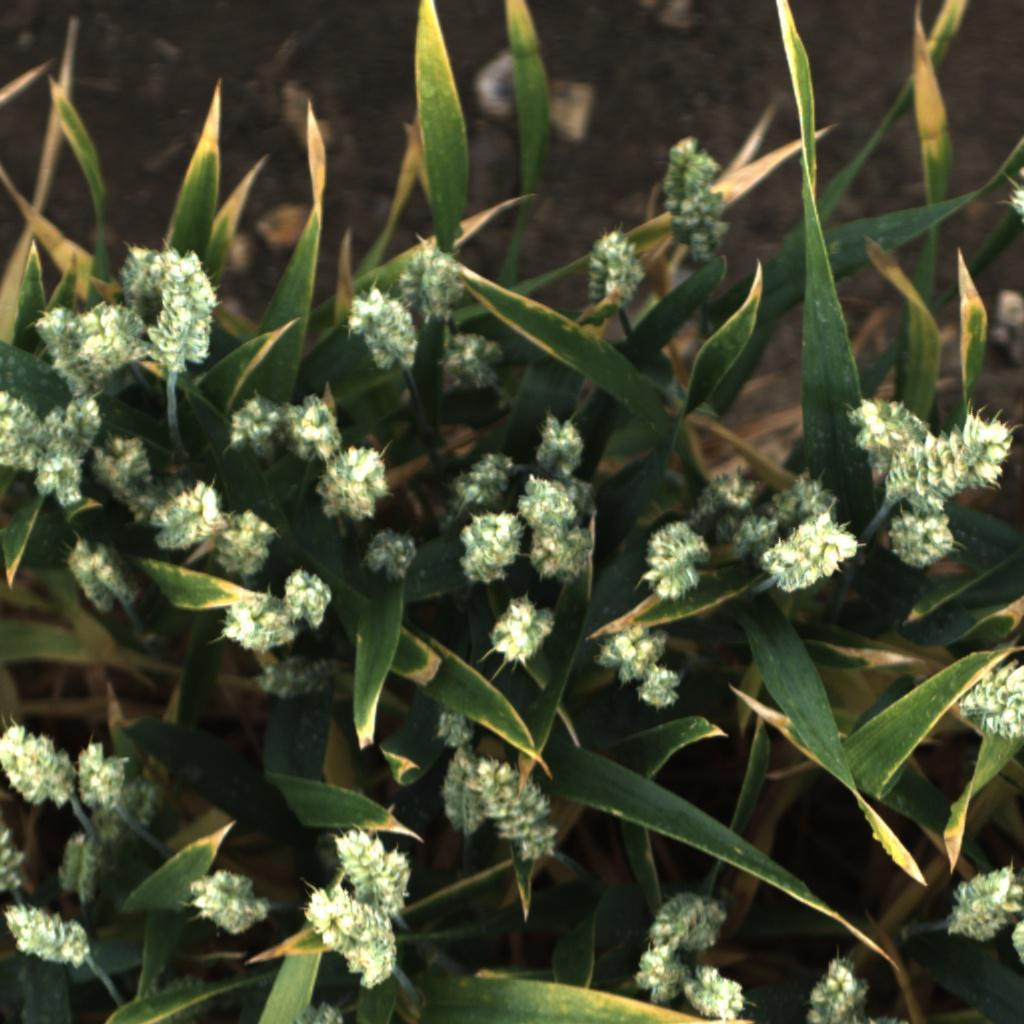0-0: (880, 409, 1014, 514), (299, 882, 400, 994), (655, 133, 733, 266), (146, 251, 227, 372), (473, 754, 565, 860), (759, 508, 863, 596), (843, 394, 941, 486), (382, 230, 469, 326), (33, 303, 116, 401), (329, 819, 414, 911), (0, 715, 74, 811), (87, 432, 162, 526), (63, 537, 144, 620), (344, 289, 421, 376), (73, 297, 154, 379), (182, 866, 271, 939), (76, 774, 162, 849), (940, 865, 1022, 943), (141, 477, 225, 553), (313, 445, 393, 524), (526, 511, 602, 593), (637, 520, 714, 600), (953, 658, 1024, 743), (1, 904, 88, 973), (221, 587, 307, 656), (581, 225, 648, 312), (452, 508, 522, 591), (686, 468, 763, 541), (587, 613, 669, 680), (880, 508, 963, 572), (223, 387, 290, 466), (91, 235, 169, 302), (68, 736, 134, 815), (278, 387, 344, 466), (210, 508, 281, 581), (438, 325, 505, 400), (643, 890, 728, 948), (251, 652, 347, 703), (486, 594, 553, 667), (802, 950, 868, 1024), (438, 746, 488, 840), (36, 392, 106, 459), (513, 467, 583, 534), (53, 828, 119, 898), (446, 444, 517, 507), (768, 472, 839, 535), (687, 958, 755, 1020), (629, 940, 687, 1008), (279, 565, 335, 634), (357, 524, 421, 584), (28, 448, 91, 507), (532, 411, 586, 479), (140, 973, 213, 1023), (1, 384, 37, 474), (729, 511, 781, 571), (430, 700, 480, 752), (636, 663, 684, 714), (0, 819, 29, 896), (295, 998, 348, 1024), (1009, 917, 1024, 967), (1008, 180, 1024, 226)
